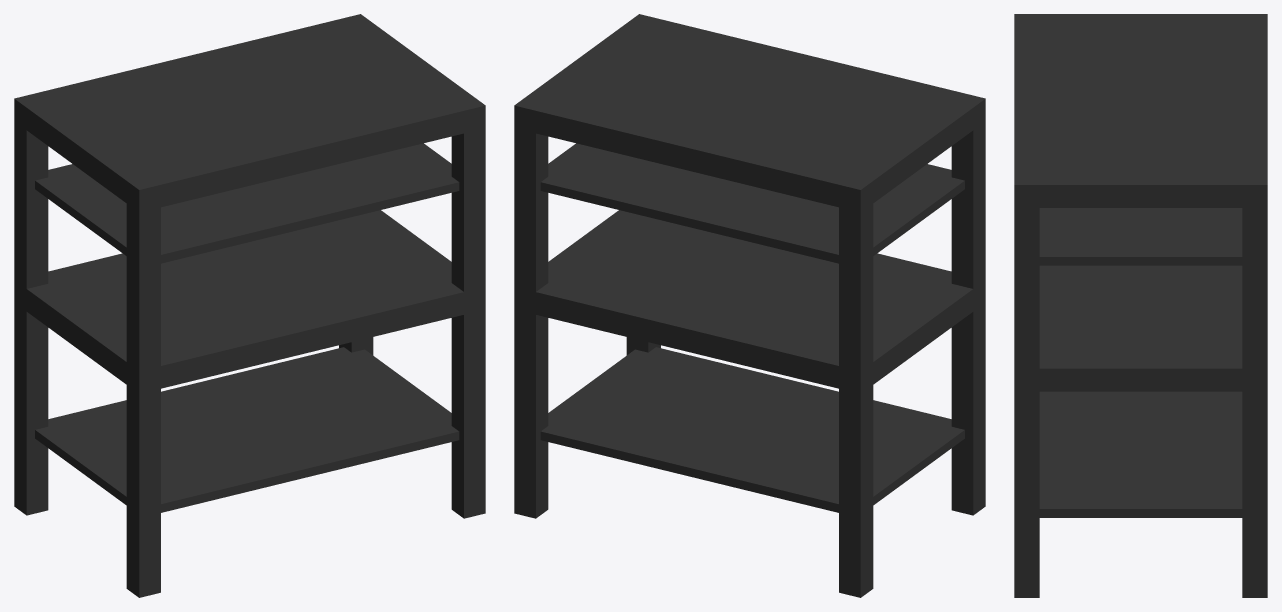
Rendered from table1.fbx.
3 renders of one model, left to right at view 1: azimuth 30°, elevation 25°; view 2: azimuth 150°, elevation 25°; view 3: azimuth 270°, elevation 25°, orthographic.
Parts seen in each view (by area): view 1: Cube; view 2: Cube; view 3: Cube.
Part boxes in pixels (x1,y1,x2,y2): Cube: (14,14,485,597); Cube: (514,14,985,597); Cube: (1014,14,1267,597).
Size of the model in its own units: 160 by 180 by 100.
